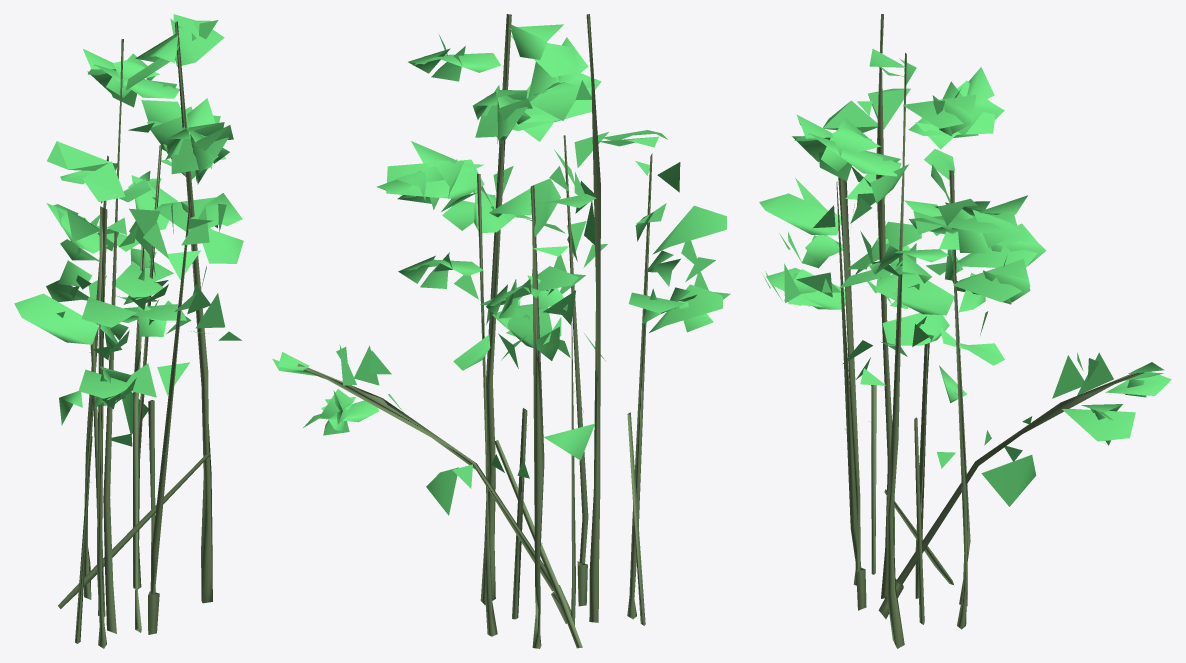
Rendered from Bamboo_Cluster1_LOD2.fbx.
3 views of the same model, side by side, from view 1: azimuth 30°, elevation 25°; view 2: azimuth 150°, elevation 25°; view 3: azimuth 270°, elevation 25° (orthographic). The views are drawn at different scales.
Visible parts, largest first — view 1: Bamboo_Cluster1_LOD2; view 2: Bamboo_Cluster1_LOD2; view 3: Bamboo_Cluster1_LOD2.
Part boxes in pixels (x1,y1,x2,y2): Bamboo_Cluster1_LOD2: [14, 14, 243, 648]; Bamboo_Cluster1_LOD2: [272, 14, 730, 648]; Bamboo_Cluster1_LOD2: [759, 14, 1171, 648].
Size of the model in its own units: 1412 by 2973 by 1868.
